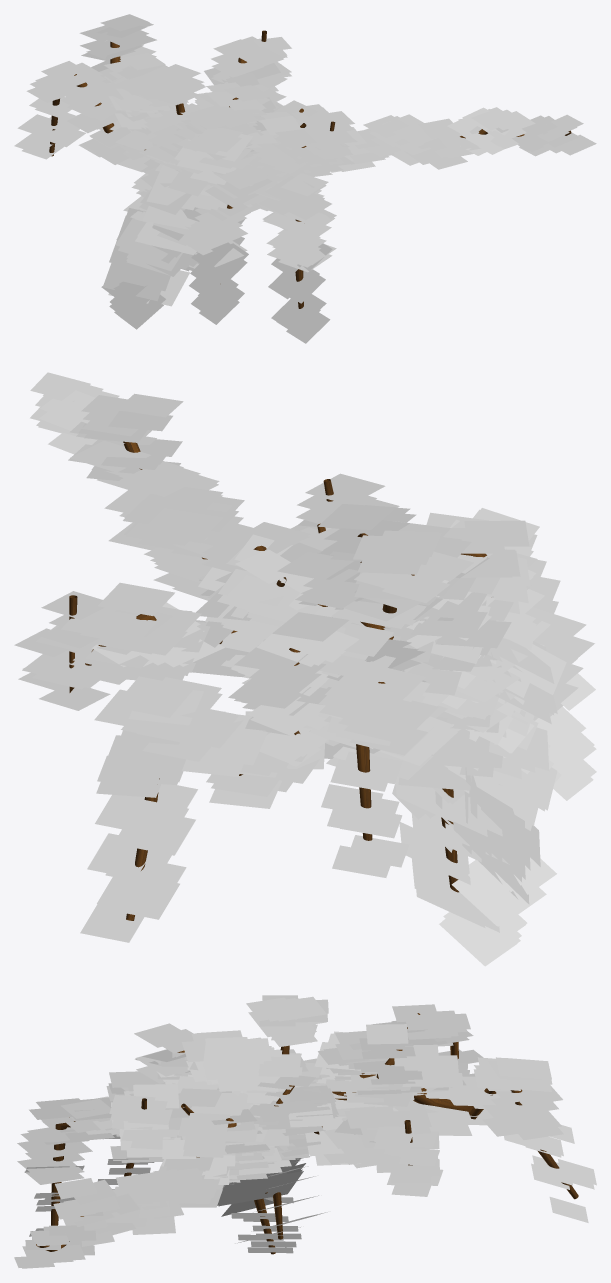
The model's file is TRIAL_VINESfbx.fbx.
The picture shows the model from 3 angles, top to bottom: view 1: azimuth 30°, elevation 25°; view 2: azimuth 150°, elevation 25°; view 3: azimuth 270°, elevation 25°; orthographic projection. The views are drawn at different scales.
Visible parts, largest first — view 1: IvyLeaf.004, IVY_Curve.004; view 2: IvyLeaf.004, IVY_Curve.004; view 3: IvyLeaf.004, IVY_Curve.004.
Boxes of the visible parts, left/top/right/bottom form: IvyLeaf.004: left=14, top=14, right=596, bottom=343; IVY_Curve.004: left=49, top=30, right=571, bottom=308; IvyLeaf.004: left=14, top=372, right=596, bottom=966; IVY_Curve.004: left=69, top=441, right=486, bottom=920; IvyLeaf.004: left=14, top=995, right=596, bottom=1268; IVY_Curve.004: left=36, top=1013, right=578, bottom=1254.
Size of the model in its own units: 1215 by 678 by 1285.
